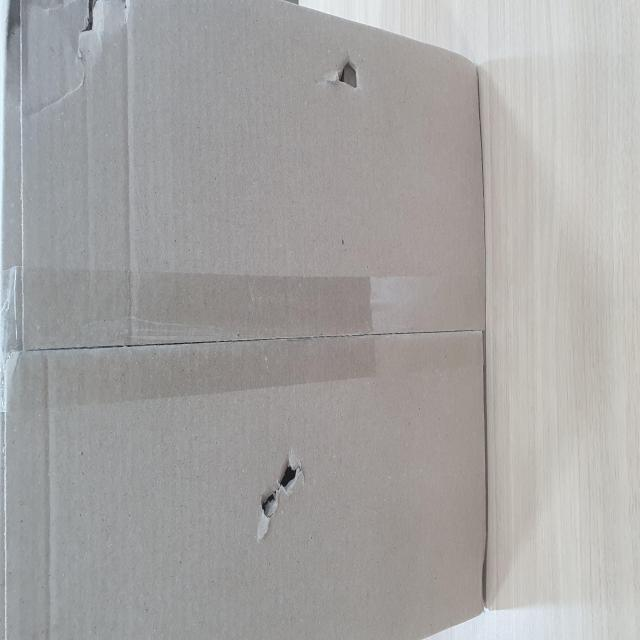damaged: (66, 448, 106, 540), (304, 587, 335, 640)
